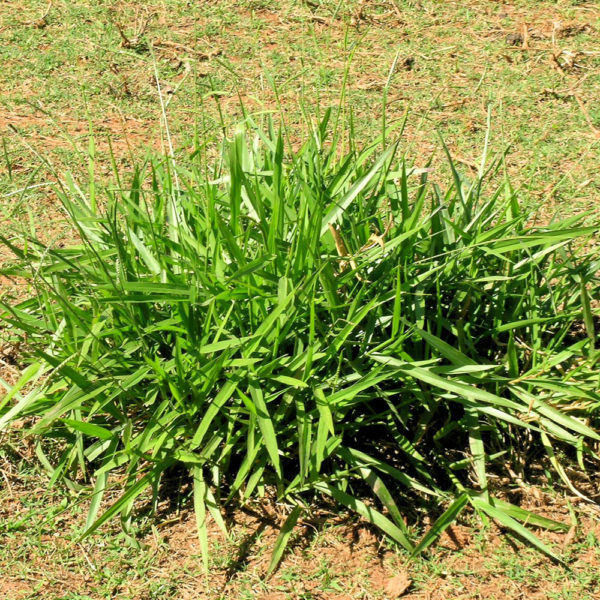crabgrass: (41, 182, 548, 508)
